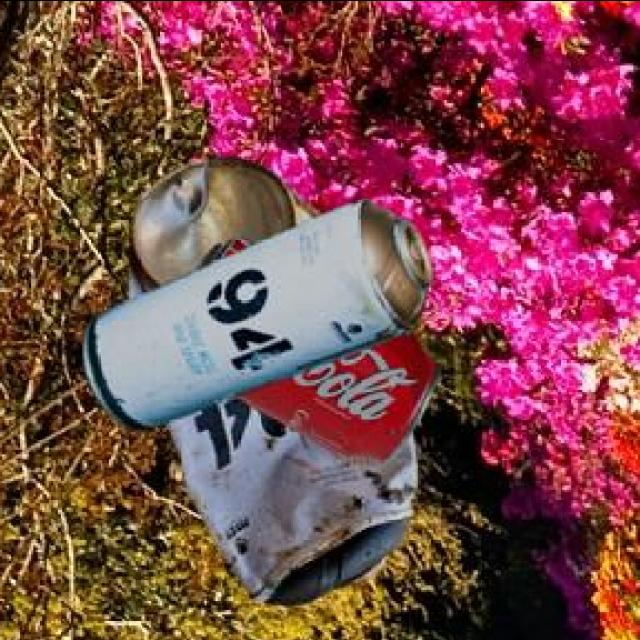logam: (126, 161, 412, 608), (79, 203, 430, 432), (197, 239, 437, 466)
